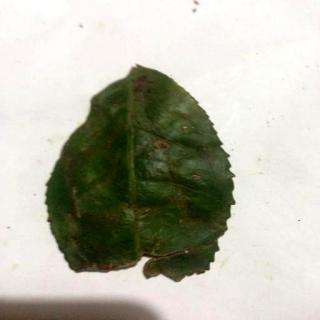Red Leaf Spot: (47, 64, 235, 283)
